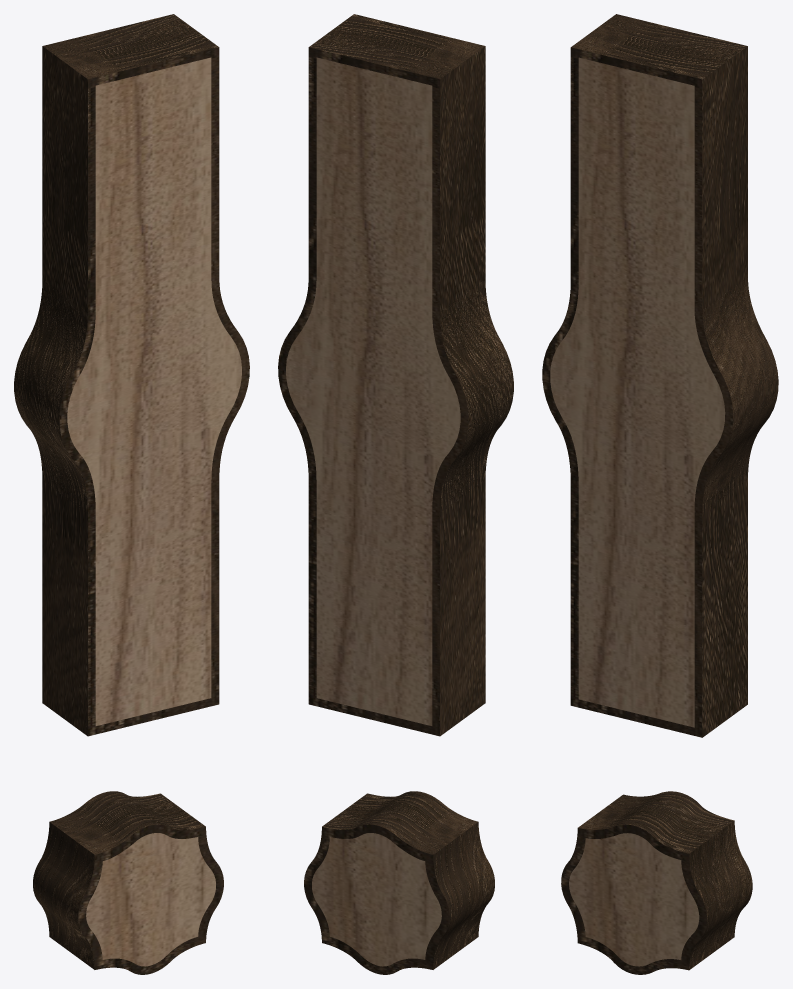
The model's file is Exclamation.FBX.
3 renders of one model, left to right at view 1: azimuth 30°, elevation 25°; view 2: azimuth 150°, elevation 25°; view 3: azimuth 330°, elevation 25°, orthographic.
Visible parts, largest first — view 1: Exclamation, Exclamation_outline; view 2: Exclamation, Exclamation_outline; view 3: Exclamation, Exclamation_outline.
Boxes of the visible parts, <box> form: Exclamation: <box>67,57,241,966</box>; Exclamation_outline: <box>14,14,249,974</box>; Exclamation: <box>286,57,460,966</box>; Exclamation_outline: <box>278,14,513,974</box>; Exclamation: <box>550,57,725,966</box>; Exclamation_outline: <box>542,14,778,974</box>.
Size of the model in its own units: 24.19 by 110 by 10.
Materials: 2 (2 with a texture image).
